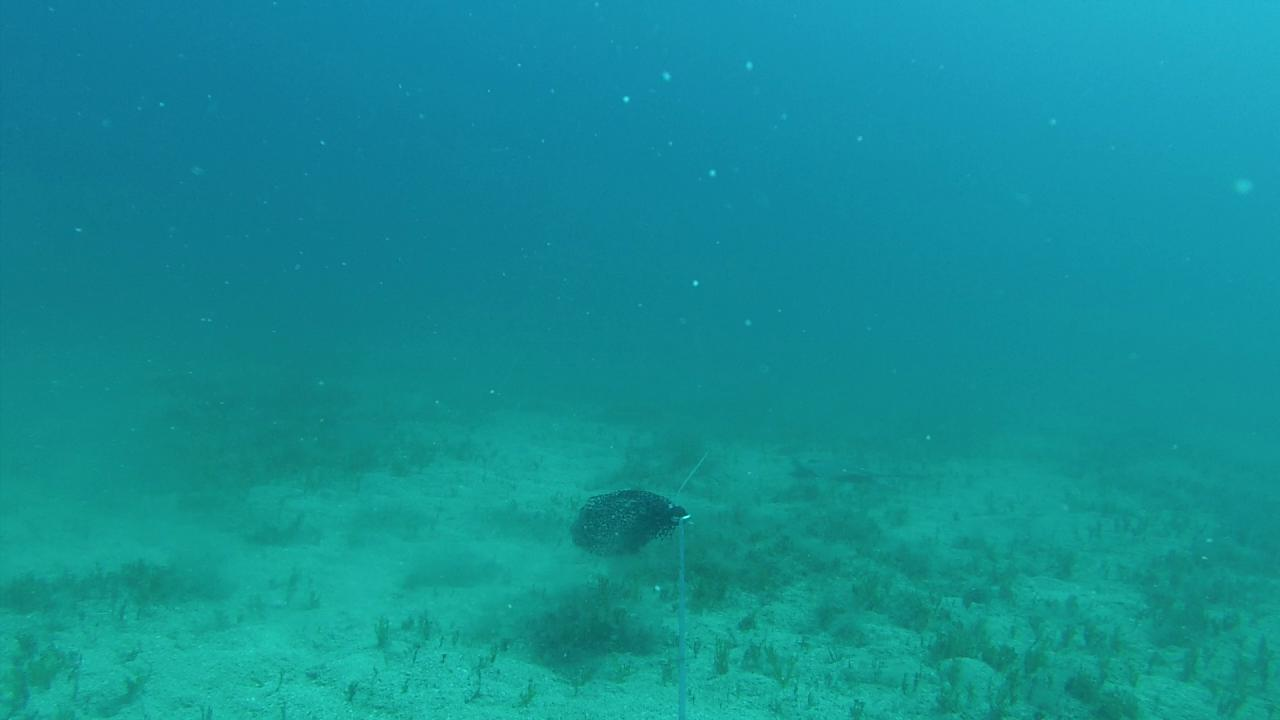dasyatis: (790, 448, 934, 481)
